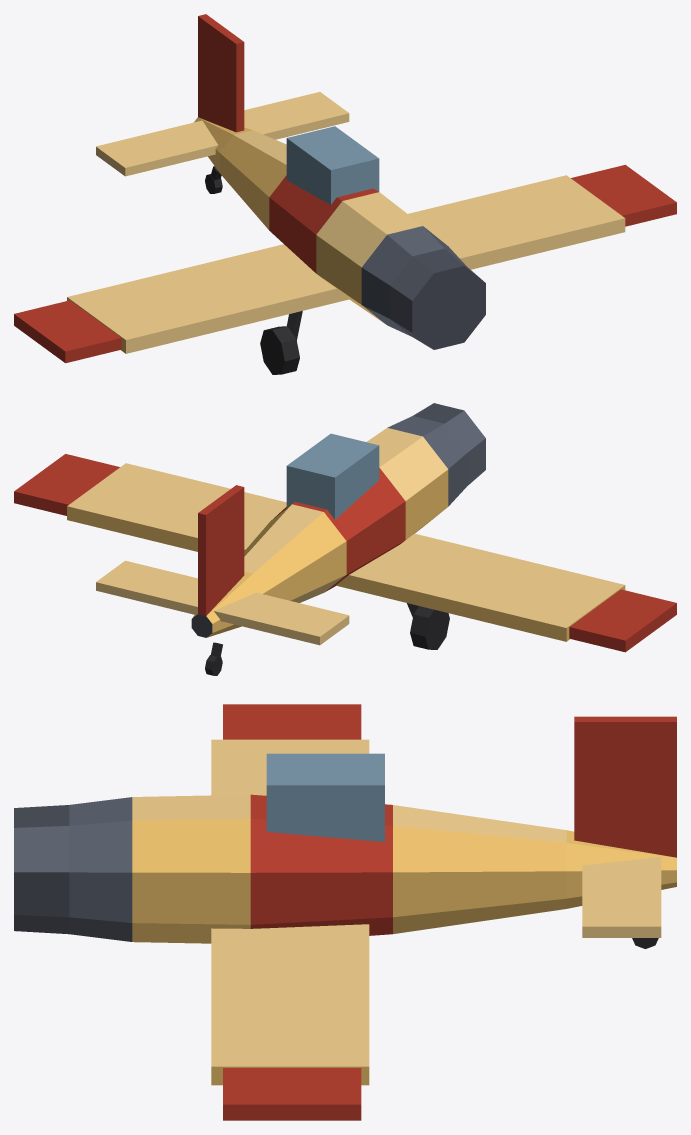
The picture shows the model from 3 angles, top to bottom: view 1: azimuth 30°, elevation 25°; view 2: azimuth 150°, elevation 25°; view 3: azimuth 270°, elevation 25°; orthographic projection. The views are drawn at different scales.
Parts seen in each view (by area): view 1: SM_Plane; view 2: SM_Plane; view 3: SM_Plane.
Part boxes in pixels (x1,y1,x2,y2): SM_Plane: (14,14,676,374); SM_Plane: (14,403,676,675); SM_Plane: (14,704,676,1120).
Bounding box in the file's own units: 12 × 4.27 × 8.4.
